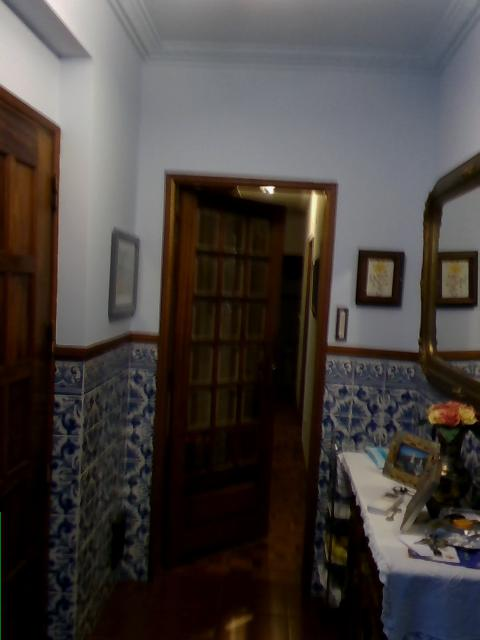semi_door: (150, 167, 339, 597)
